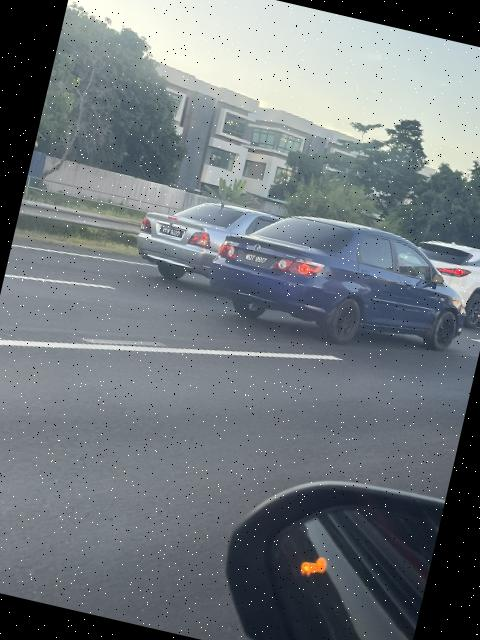License_Plate: (230, 244, 284, 277), (150, 219, 191, 245)
car: (198, 194, 480, 371), (132, 182, 301, 305)
